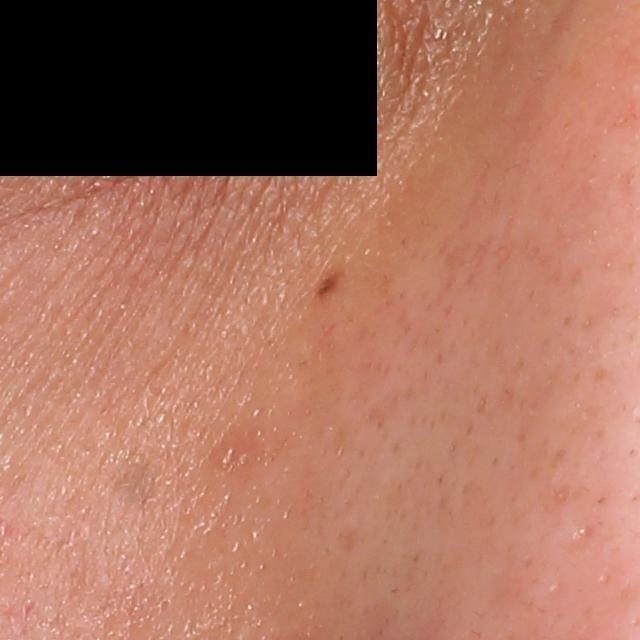atrophic_scar: (556, 520, 596, 556)
nevus: (309, 267, 349, 305)
